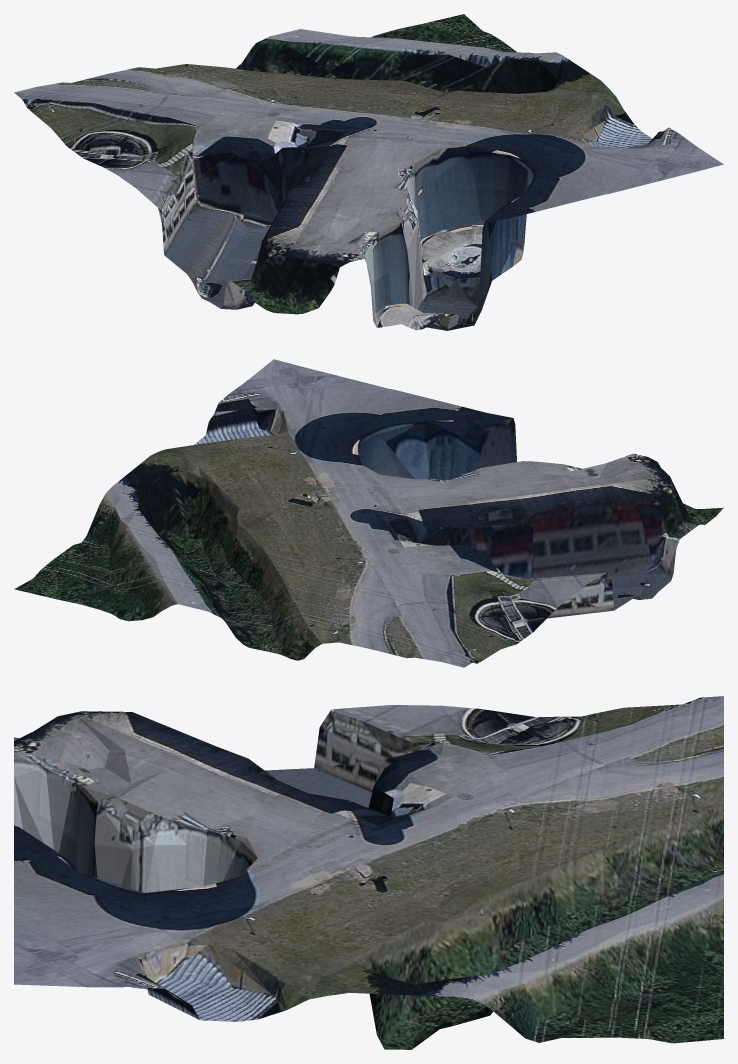
The model's file is map_15_8183_13777.dae.
The picture shows the model from 3 angles, top to bottom: view 1: azimuth 30°, elevation 25°; view 2: azimuth 150°, elevation 25°; view 3: azimuth 270°, elevation 25°; orthographic projection. The views are drawn at different scales.
Visible parts, largest first — view 1: Ter0; view 2: Ter0; view 3: Ter0.
Part boxes in pixels (x1,y1,x2,y2): Ter0: (14, 14, 723, 330); Ter0: (14, 359, 723, 667); Ter0: (14, 696, 723, 1049).
Bounding box in the file's own units: 63.87 × 63.88 × 14.46.
3 materials, 3 textured.
